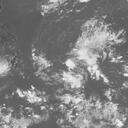cyclone: (65, 30, 113, 90)
